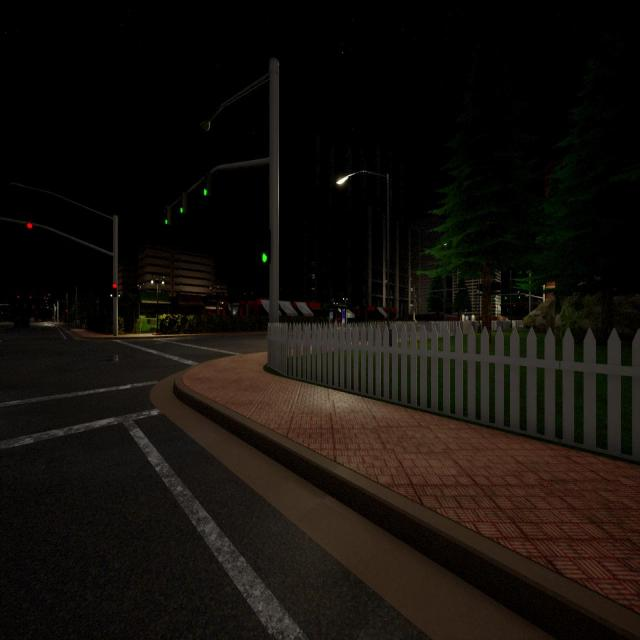Vehicle: (14, 312, 31, 329)
traffic_light: (262, 234, 272, 264), (203, 175, 209, 196), (164, 205, 170, 225), (180, 194, 186, 214), (112, 283, 117, 298), (27, 223, 32, 229), (504, 294, 506, 300), (518, 293, 520, 299), (494, 294, 496, 299), (29, 296, 32, 299), (66, 309, 68, 312), (17, 296, 19, 298), (32, 306, 34, 308), (44, 297, 46, 299), (41, 306, 42, 308), (47, 306, 48, 308)
